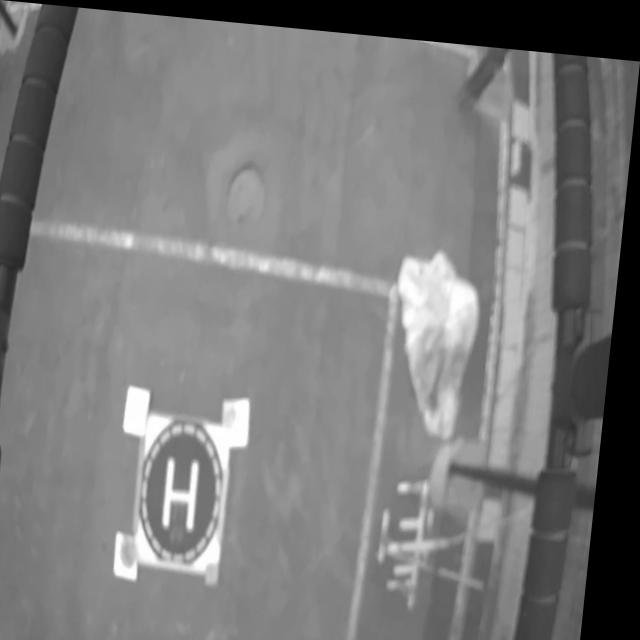Helipad: (172, 451, 209, 527)
